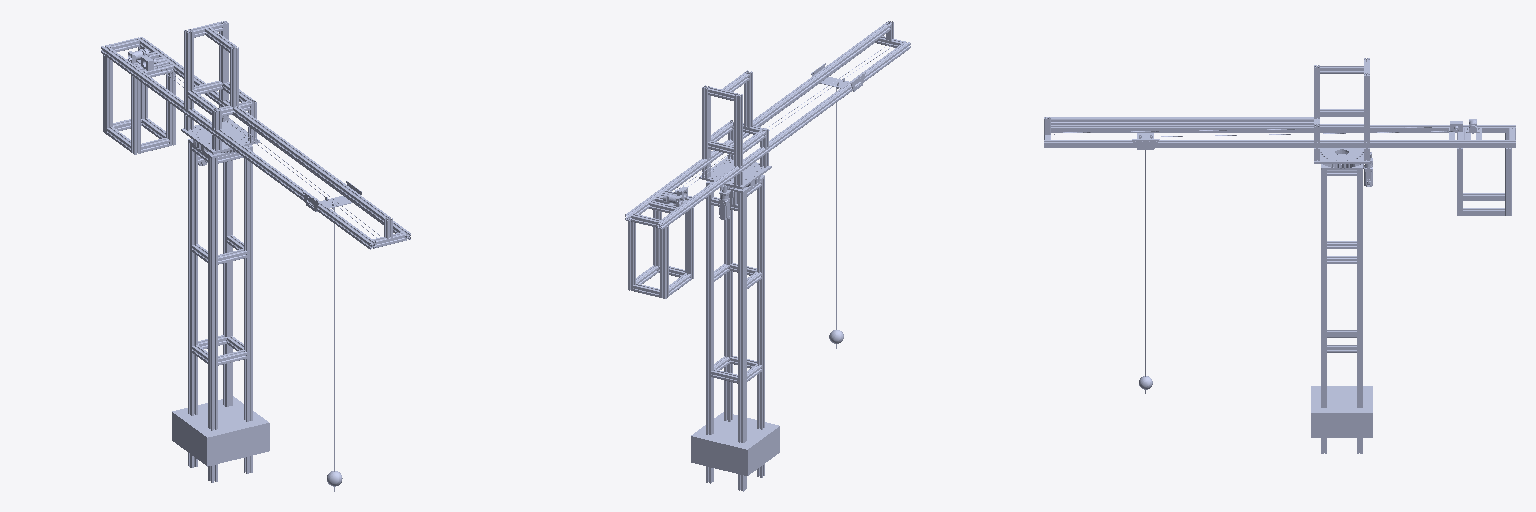
URDF robot description (tower_crane):
<?xml version="1.0" encoding="utf-8"?>
<robot
  name="tower_crane">
  <link name="world"/>
  <joint name="world_to_base" type="fixed">
    <parent link="world"/>
    <child link="base_base_link"/>
    <origin rpy="0 0 0" xyz="0 0 0"/>
  </joint>
  <link name="base_base_link">
    <visual>
      <geometry>
        <box size="0.45 0.45 0.2"/>
      </geometry>
      <material name="">
        <color rgba="0.79216 0.81961 0.93333 1"/>
      </material>
    </visual>
  </link>
  <joint name="base_to_base" type="fixed">
    <parent link="base_base_link"/>
    <child link="base_link"/>
    <origin xyz="0 0 2" rpy="0 0 0"/> 
  </joint>
  <link
    name="base_link">
    <inertial>
      <origin
        xyz="-0.00054365 0.0005699 -0.90918"
        rpy="0 0 0" />
      <mass
        value="24.622" />
      <inertia
        ixx="12.76"
        ixy="0"
        ixz="0.01"
        iyy="12.75"
        iyz="-0.04"
        izz="0.70" />
    </inertial>
    <visual>
      <origin
        xyz="0 0 0"
        rpy="0 0 0" />
      <geometry>
        <mesh
          filename="package://tower_crane/meshes/base_link.STL" />
      </geometry>
      <material
        name="">
        <color
          rgba="0.79216 0.81961 0.93333 1" />
      </material>
    </visual>
    <collision>
      <origin
        xyz="0 0 0"
        rpy="0 0 0" />
      <geometry>
        <mesh
          filename="package://tower_crane/meshes/base_link.STL" />
      </geometry>
    </collision>
  </link>
  <link
    name="slewing_Link">
    <inertial>
      <origin
        xyz="-0.000744911036835383 -0.0874649854532076 0.14613338637878"
        rpy="0 0 0" />
      <mass
        value="38.2285461245108" />
      <inertia
        ixx=" 32.67"
        ixy="0.03"
        ixz="0.00"
        iyy="2.25"
        iyz="2.79"
        izz=" 31.30" />
    </inertial>
    <visual>
      <origin
        xyz="0 0 0"
        rpy="0 0 0" />
      <geometry>
        <mesh
          filename="package://tower_crane/meshes/slewing_Link.STL" />
      </geometry>
      <material
        name="">
        <color
          rgba="0.792156862745098 0.819607843137255 0.933333333333333 1" />
      </material>
    </visual>
    <collision>
      <origin
        xyz="0 0 0"
        rpy="0 0 0" />
      <geometry>
        <mesh
          filename="package://tower_crane/meshes/slewing_Link.STL" />
      </geometry>
    </collision>
  </link>
  <joint
    name="slewing_joint"
    type="revolute">
    <origin
      xyz="0 0 0.007"
      rpy="0 0 0" />
    <parent
      link="base_link" />
    <child
      link="slewing_Link" />
    <axis
      xyz="0 0 1" />
    <limit
      lower="-3.14"
      upper="3.14"
      effort="100"
      velocity="0" />
  </joint>
  <link
    name="trolley_Link">
    <inertial>
      <origin
        xyz="-0.00252711686986329 -6.66133814775094E-16 -0.146022586184743"
        rpy="0 0 0" />
      <mass
        value="0.567964273921575" />
      <inertia
        ixx="0.12"
        ixy="0.00"
        ixz="0.00"
        iyy="0.13"
        iyz="0.00"
        izz="0.01" />
    </inertial>
    <visual>
      <origin
        xyz="0 0 0"
        rpy="0 0 0" />
      <geometry>
        <mesh
          filename="package://tower_crane/meshes/trolley_Link.STL" />
      </geometry>
      <material
        name="">
        <color
          rgba="0.792156862745098 0.819607843137255 0.933333333333333 1" />
      </material>
    </visual>
    <collision>
      <origin
        xyz="0 0 0"
        rpy="0 0 0" />
      <geometry>
        <mesh
          filename="package://tower_crane/meshes/trolley_Link.STL" />
      </geometry>
    </collision>
  </link>
  <joint
    name="trolley_joint"
    type="prismatic">
    <origin
      xyz="0.00031802 -1.4078 0.1438"
      rpy="0 0 -3.1416" />
    <parent
      link="slewing_Link" />
    <child
      link="trolley_Link" />
    <axis
      xyz="0 1 0" />
    <limit
      lower="-2"
      upper="0.5"
      effort="20"
      velocity="0.5" />
  </joint>
  <link
    name="hook_Link">
    <inertial>
      <origin
        xyz="0 2.22044604925031E-16 0"
        rpy="0 0 0" />
      <mass
        value="5.0" />
      <inertia
        ixx="0.01"
        ixy="0.00"
        ixz="0.00"
        iyy="0.01"
        iyz="0.00"
        izz="0.01" />
    </inertial>
    <visual>
      <origin
        xyz="0 0 0"
        rpy="0 0 0" />
      <geometry>
        <mesh
          filename="package://tower_crane/meshes/hook_Link.STL" />
      </geometry>
      <material
        name="">
        <color
          rgba="0.792156862745098 0.819607843137255 0.933333333333333 1" />
      </material>
    </visual>
    <collision>
      <origin
        xyz="0 0 0"
        rpy="0 0 0" />
      <geometry>
        <mesh
          filename="package://tower_crane/meshes/hook_Link.STL" />
      </geometry>
    </collision>
  </link>
  <joint
    name="hook_joint"
    type="prismatic">
    <origin
      xyz="-0.013982 0 -1.9126"
      rpy="0 0 3.1416" />
    <parent
      link="trolley_Link" />
    <child
      link="hook_Link" />
    <axis
      xyz="0 0 1" />
    <limit
      lower="0"
      upper="2"
      effort="50"
      velocity="0.5" />
  </joint>
  

</robot>

--- Render facts (derived) ---
Views: 3 orthographic renders of the robot side by side, from view 1: azimuth 30°, elevation 25°; view 2: azimuth 150°, elevation 25°; view 3: azimuth 270°, elevation 25°.
Model tower_crane with 6 links and 5 joints (1 revolute, 2 prismatic, 2 fixed), rooted at world, posed every joint at zero.
Links seen in each view (by area): view 1: slewing_Link, base_link, base_base_link, trolley_Link; view 2: slewing_Link, base_link, base_base_link, trolley_Link; view 3: slewing_Link, base_link, base_base_link, trolley_Link.
Link boxes in pixels (x1,y1,x2,y2): slewing_Link: [101, 21, 410, 249]; base_link: [188, 139, 252, 482]; base_base_link: [172, 396, 269, 466]; trolley_Link: [303, 181, 361, 491]; slewing_Link: [625, 21, 910, 298]; base_link: [706, 175, 764, 491]; base_base_link: [691, 412, 779, 475]; trolley_Link: [811, 63, 865, 348]; slewing_Link: [1044, 58, 1515, 215]; base_link: [1321, 152, 1372, 453]; base_base_link: [1311, 386, 1372, 437]; trolley_Link: [1132, 133, 1159, 393].
Size in the robot's own frame: 0.45 by 3.38 by 3 metres.
Meshes: 4 distinct files referenced, 4 mesh visuals loaded (4 binary STL).